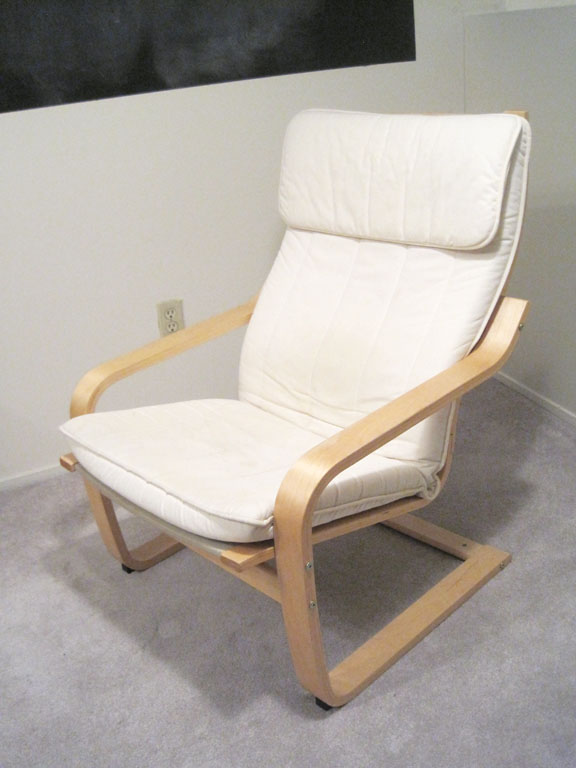chairs: (56, 107, 537, 714)
